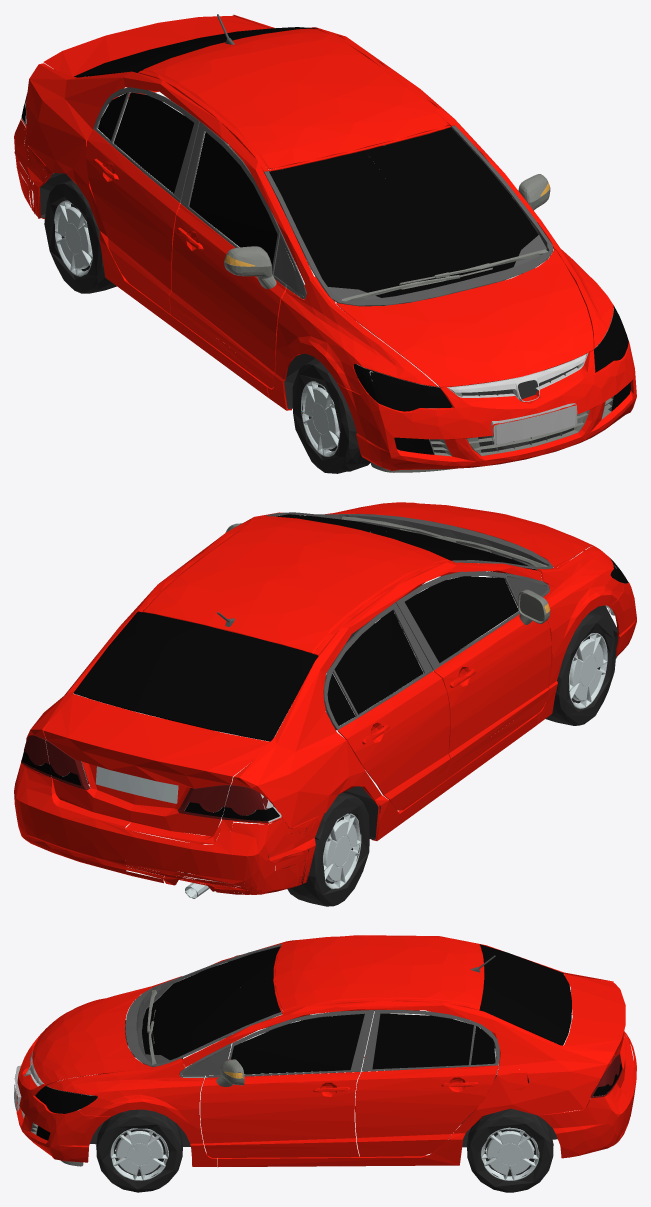
Rendered from car_red.gltf.
The picture shows the model from 3 angles, top to bottom: view 1: azimuth 30°, elevation 25°; view 2: azimuth 150°, elevation 25°; view 3: azimuth 270°, elevation 25°; orthographic projection. The views are drawn at different scales.
Visible parts, largest first — view 1: Obj_66, Obj_67, Obj_65, Obj_63, Obj_58, Obj_64, Obj_000022, Obj_32, Obj_47, Obj_45, Obj_28, Obj_000020 (+4 smaller); view 2: Obj_66, Obj_65, Obj_67, Obj_58, Obj_64, Obj_56, Obj_47, Obj_32, Obj_63, Obj_50, Obj_42, Obj_45 (+1 smaller); view 3: Obj_66, Obj_67, Obj_65, Obj_44, Obj_29, Obj_64, Obj_57, Obj_63, Obj_58, Obj_000022, Obj_36, Obj_28 (+2 smaller).
Boxes of the visible parts, left/top/right/bottom form: Obj_66: left=14, top=28, right=636, bottom=470; Obj_67: left=74, top=27, right=538, bottom=297; Obj_65: left=14, top=14, right=541, bottom=397; Obj_63: left=264, top=125, right=552, bottom=306; Obj_58: left=54, top=200, right=340, bottom=456; Obj_64: left=93, top=87, right=531, bottom=298; Obj_000022: left=353, top=305, right=628, bottom=411; Obj_32: left=292, top=360, right=370, bottom=473; Obj_47: left=44, top=180, right=116, bottom=293; Obj_45: left=40, top=168, right=608, bottom=453; Obj_28: left=224, top=174, right=550, bottom=289; Obj_000020: left=491, top=403, right=577, bottom=444; Obj_66: left=14, top=502, right=636, bottom=894; Obj_65: left=26, top=512, right=541, bottom=894; Obj_67: left=73, top=514, right=536, bottom=741; Obj_58: left=323, top=633, right=607, bottom=888; Obj_64: left=323, top=571, right=549, bottom=730; Obj_56: left=21, top=735, right=279, bottom=822; Obj_47: left=284, top=792, right=369, bottom=906; Obj_32: left=545, top=612, right=616, bottom=725; Obj_63: left=265, top=512, right=553, bottom=569; Obj_50: left=95, top=766, right=178, bottom=803; Obj_42: left=21, top=751, right=279, bottom=820; Obj_45: left=181, top=595, right=620, bottom=877; Obj_66: left=16, top=935, right=636, bottom=1166; Obj_67: left=142, top=944, right=571, bottom=1074; Obj_65: left=182, top=935, right=634, bottom=1166; Obj_44: left=466, top=1108, right=553, bottom=1192; Obj_29: left=96, top=1109, right=182, bottom=1192; Obj_64: left=179, top=1010, right=499, bottom=1077; Obj_57: left=110, top=1127, right=539, bottom=1180; Obj_63: left=125, top=943, right=281, bottom=1066; Obj_58: left=118, top=1128, right=168, bottom=1180; Obj_000022: left=35, top=1086, right=97, bottom=1113; Obj_36: left=182, top=1046, right=230, bottom=1075; Obj_28: left=216, top=955, right=244, bottom=1086.
Size of the model in its own units: 2.03 by 1.51 by 4.52.
